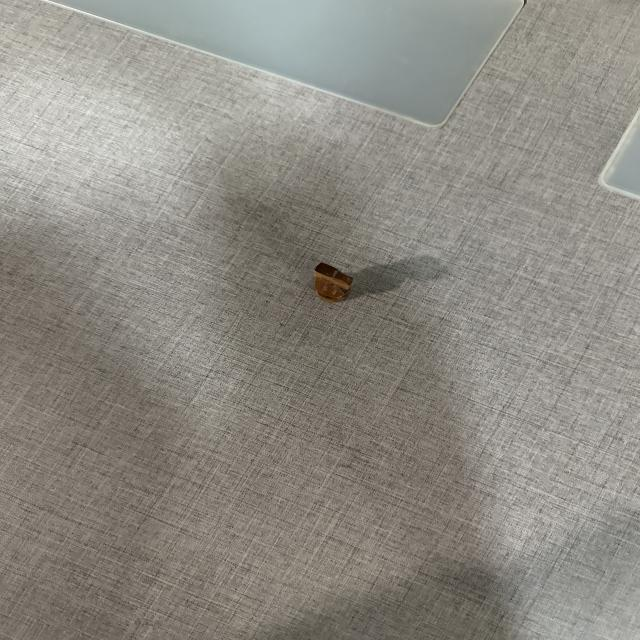Black-Knight: (314, 262, 353, 302)
